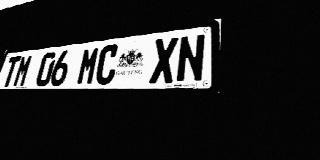0: (34, 51, 57, 86)
6: (49, 50, 72, 86)
C: (94, 44, 120, 85)
M: (76, 46, 101, 85), (12, 54, 34, 87)
N: (175, 33, 206, 83)
T: (0, 56, 21, 87)
X: (149, 37, 178, 83)
